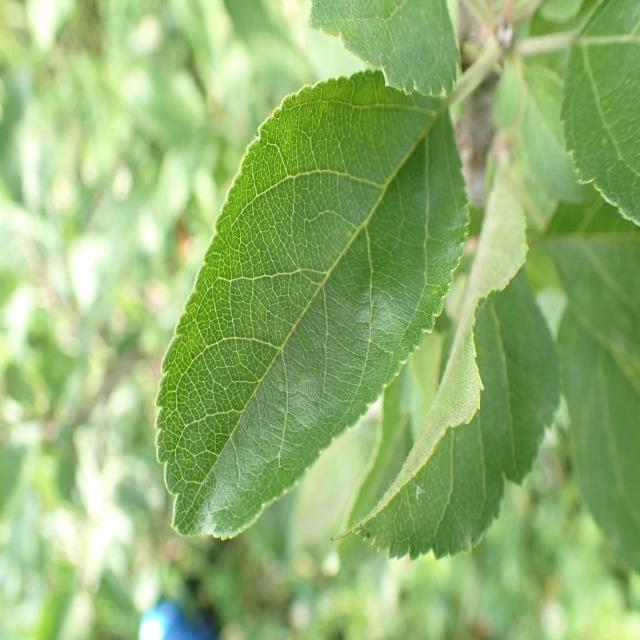Powdery_mildew: (155, 61, 447, 511)
